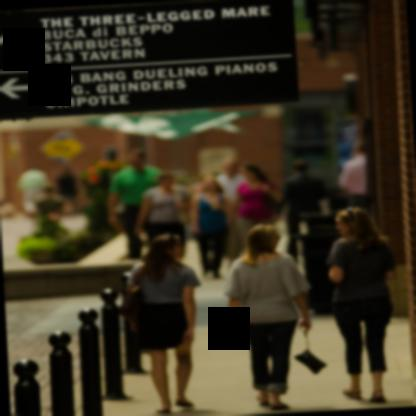handbag: (122, 262, 148, 339), (292, 333, 327, 375), (264, 189, 283, 211), (175, 206, 191, 224)
